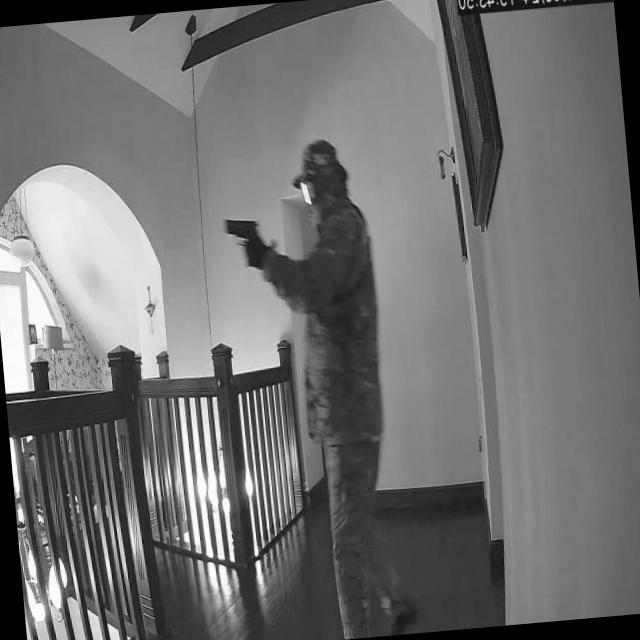gun: (221, 211, 264, 258)
person with a gun: (289, 132, 413, 640)
